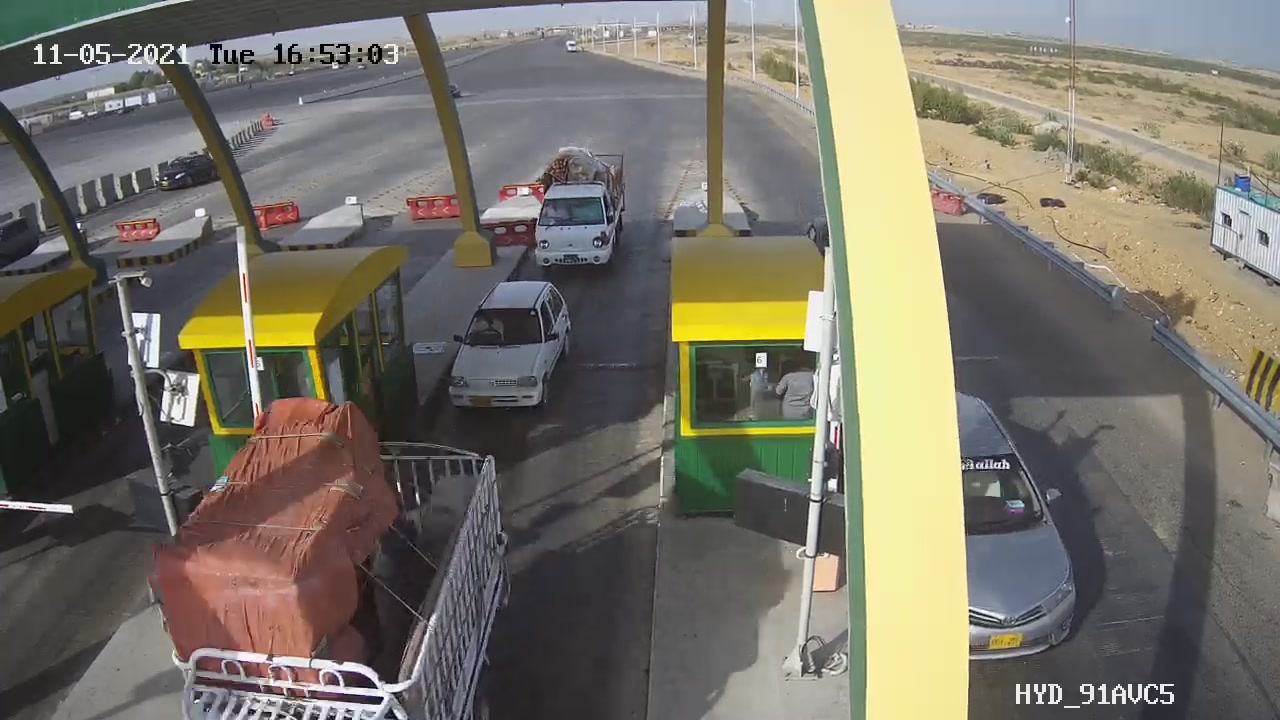F1: (432, 269, 588, 431)
F2: (511, 138, 637, 274)
